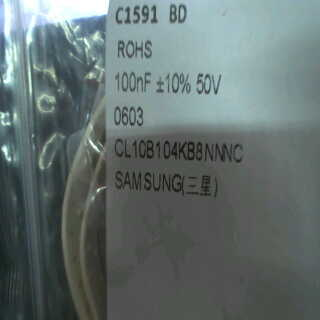100nF: (114, 67, 154, 99)
